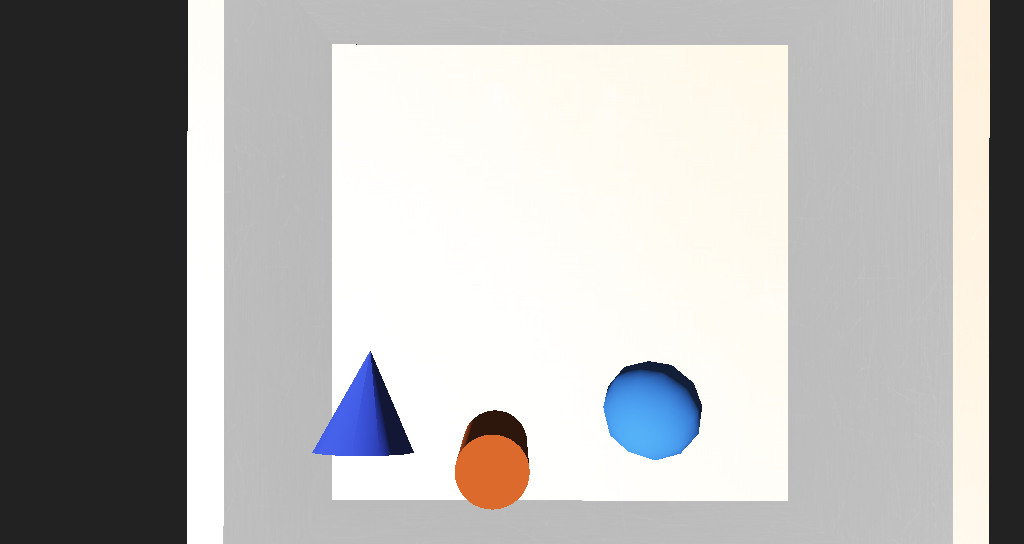cone: (431, 334, 485, 372)
cylinder: (340, 298, 414, 360)
sphere: (536, 305, 596, 353)
